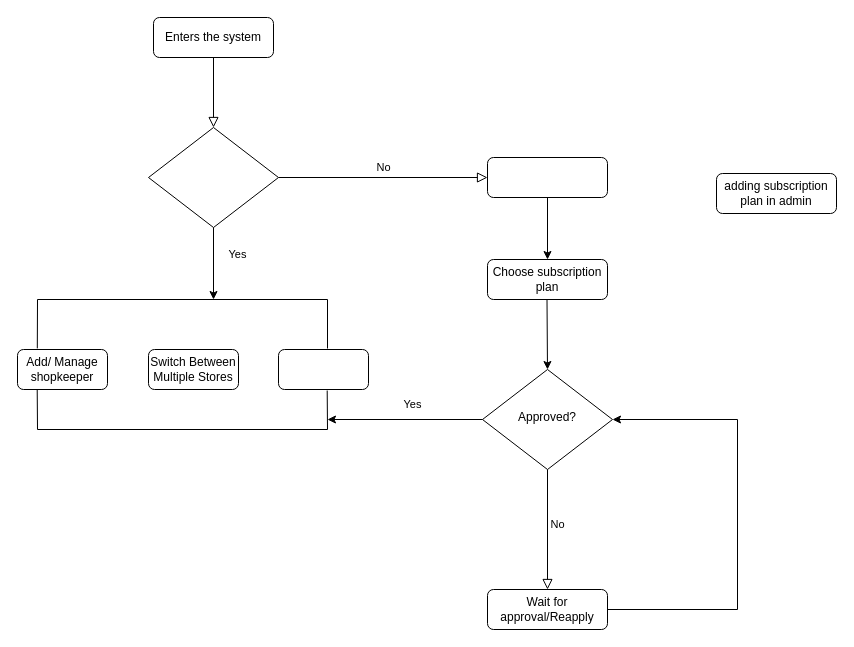
Image size: 854x647. Some labels were removed from this diagram. The box of each missing label's shape, as (x1, y1, x2, y2) in pixels:
Has business account?: (148, 126, 278, 228)
Register: (486, 156, 608, 198)
View Report and analytics: (278, 348, 368, 390)
